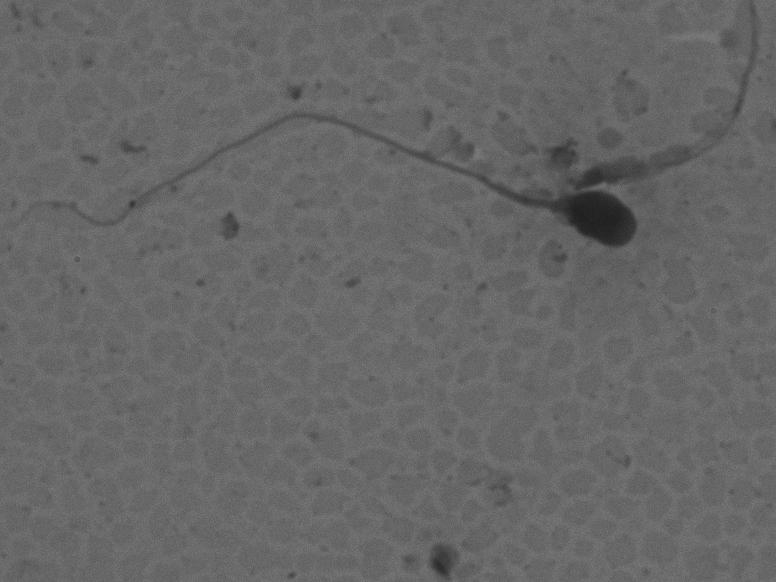Abnormal: (11, 103, 659, 281)
